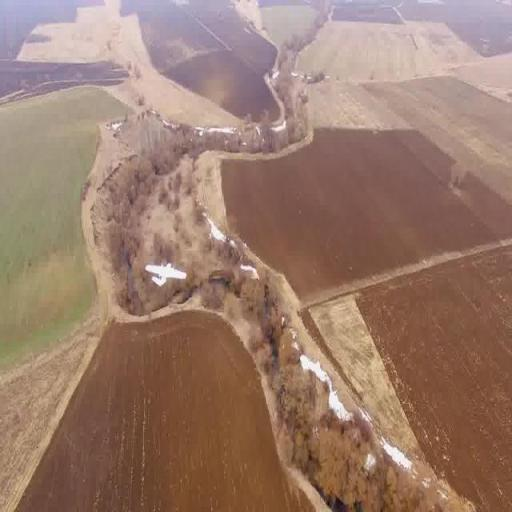uav: (126, 244, 200, 318)
